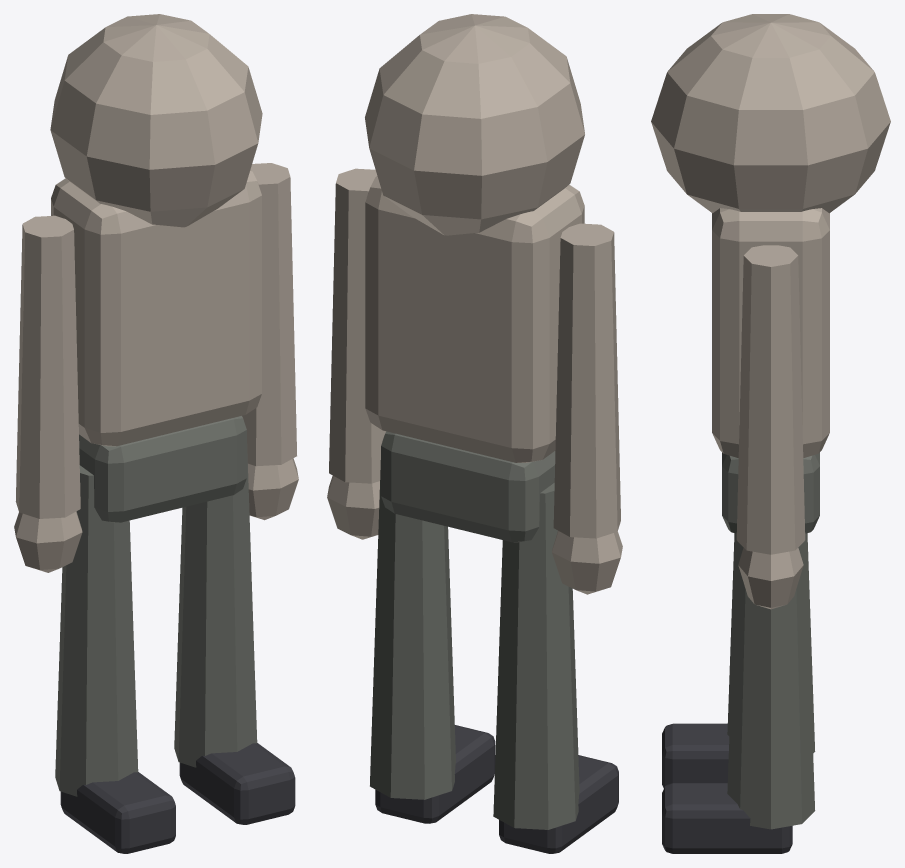
Rendered from mutant_mimic.glb.
3 renders of one model, left to right at view 1: azimuth 30°, elevation 25°; view 2: azimuth 150°, elevation 25°; view 3: azimuth 270°, elevation 25°, orthographic. The views are drawn at different scales.
Visible parts, largest first — view 1: mut_mimic_torso, mut_mimic_head, mut_mimic_leg_l, mut_mimic_leg_r, mut_mimic_arm_l, mut_mimic_pelvis, mut_mimic_arm_r, mut_mimic_foot_r, mut_mimic_foot_l, mut_mimic_hand_l, mut_mimic_hand_r; view 2: mut_mimic_torso, mut_mimic_head, mut_mimic_leg_l, mut_mimic_leg_r, mut_mimic_arm_l, mut_mimic_pelvis, mut_mimic_arm_r, mut_mimic_foot_r, mut_mimic_foot_l, mut_mimic_hand_l, mut_mimic_hand_r; view 3: mut_mimic_head, mut_mimic_arm_r, mut_mimic_leg_r, mut_mimic_torso, mut_mimic_foot_r, mut_mimic_foot_l, mut_mimic_hand_r, mut_mimic_pelvis, mut_mimic_leg_l.
Boxes of the visible parts, x1=… form: mut_mimic_torso: x1=51, y1=170, x2=261, y2=446; mut_mimic_head: x1=50, y1=14, x2=262, y2=227; mut_mimic_leg_l: x1=55, y1=465, x2=138, y2=796; mut_mimic_leg_r: x1=174, y1=444, x2=257, y2=767; mut_mimic_arm_l: x1=15, y1=215, x2=80, y2=518; mut_mimic_pelvis: x1=79, y1=416, x2=246, y2=522; mut_mimic_arm_r: x1=242, y1=163, x2=296, y2=466; mut_mimic_foot_r: x1=179, y1=743, x2=295, y2=824; mut_mimic_foot_l: x1=60, y1=772, x2=175, y2=853; mut_mimic_hand_l: x1=14, y1=511, x2=82, y2=572; mut_mimic_hand_r: x1=248, y1=458, x2=298, y2=520; mut_mimic_torso: x1=365, y1=176, x2=584, y2=462; mut_mimic_head: x1=365, y1=14, x2=584, y2=235; mut_mimic_leg_l: x1=493, y1=483, x2=579, y2=829; mut_mimic_leg_r: x1=370, y1=460, x2=455, y2=799; mut_mimic_arm_l: x1=553, y1=223, x2=620, y2=538; mut_mimic_pelvis: x1=381, y1=431, x2=555, y2=542; mut_mimic_arm_r: x1=329, y1=168, x2=385, y2=483; mut_mimic_foot_r: x1=375, y1=725, x2=495, y2=823; mut_mimic_foot_l: x1=499, y1=755, x2=618, y2=853; mut_mimic_hand_l: x1=552, y1=530, x2=622, y2=594; mut_mimic_hand_r: x1=327, y1=475, x2=379, y2=539; mut_mimic_head: x1=651, y1=14, x2=890, y2=213; mut_mimic_arm_r: x1=736, y1=245, x2=805, y2=554; mut_mimic_leg_r: x1=727, y1=535, x2=815, y2=829; mut_mimic_torso: x1=712, y1=208, x2=829, y2=457; mut_mimic_foot_r: x1=662, y1=783, x2=792, y2=853; mut_mimic_foot_l: x1=662, y1=723, x2=729, y2=788; mut_mimic_hand_r: x1=738, y1=548, x2=803, y2=609; mut_mimic_pelvis: x1=722, y1=452, x2=819, y2=533; mut_mimic_leg_l: x1=727, y1=533, x2=815, y2=753.
Bounding box in the file's own units: 0.608 × 1.6 × 0.44.
